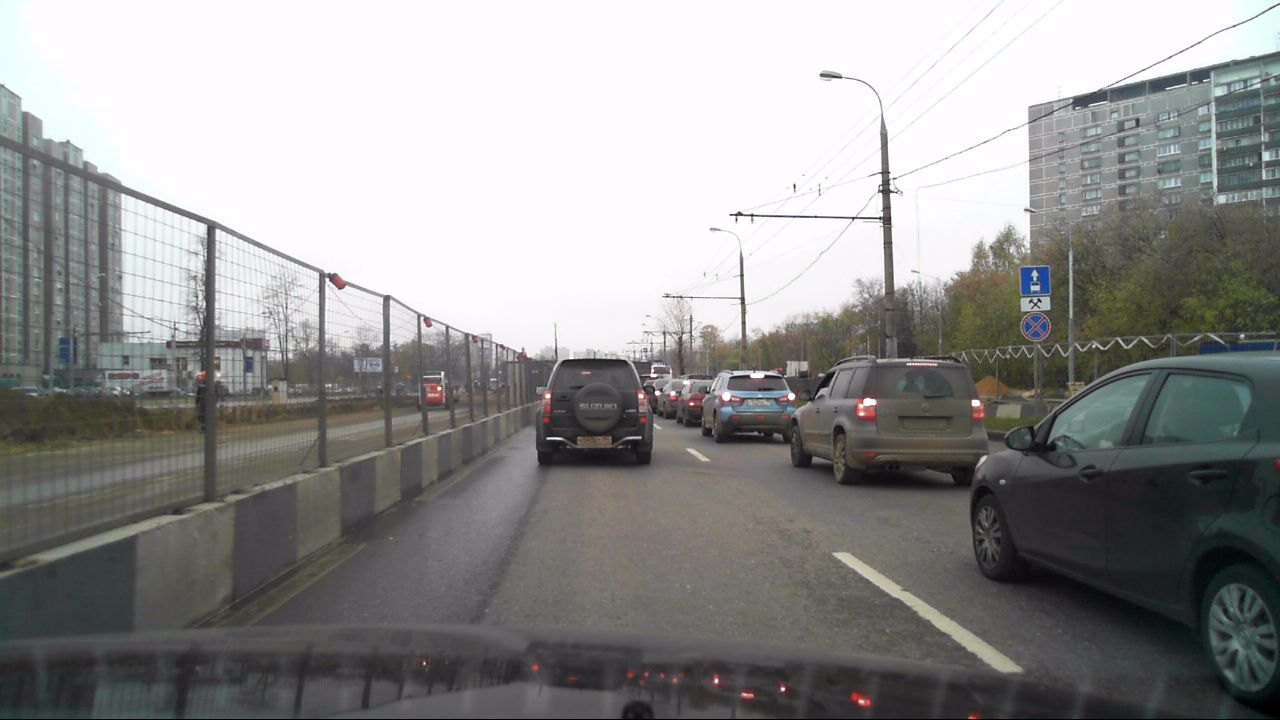No Parking: (1021, 313, 1050, 341)
